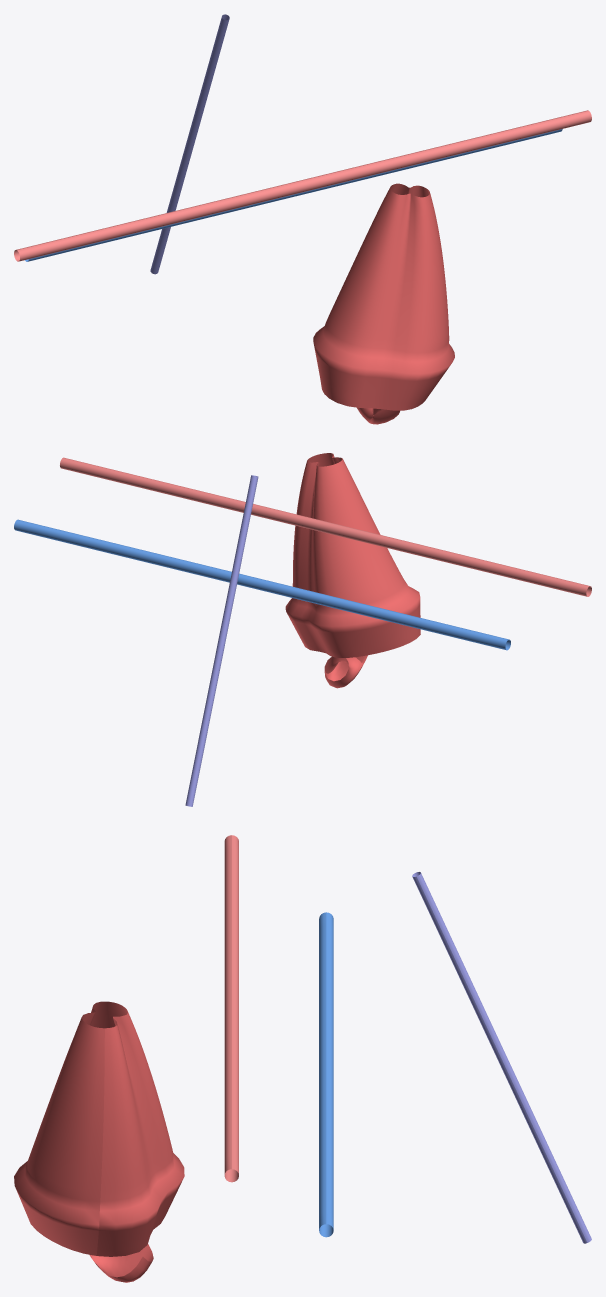
Rendered from cardiovascular.glb.
3 views of the same model, one above another, from view 1: azimuth 30°, elevation 25°; view 2: azimuth 150°, elevation 25°; view 3: azimuth 270°, elevation 25° (orthographic). The views are drawn at different scales.
Parts seen in each view (by area): view 1: Mesh_Avian_Cor, Mesh_Avian_AortaDexter, Mesh_Avian_RenalPortal, Mesh_Avian_VenaCava; view 2: Mesh_Avian_Cor, Mesh_Avian_AortaDexter, Mesh_Avian_VenaCava, Mesh_Avian_RenalPortal; view 3: Mesh_Avian_Cor, Mesh_Avian_AortaDexter, Mesh_Avian_VenaCava, Mesh_Avian_RenalPortal.
Part boxes in pixels (bbox=[...]): Mesh_Avian_Cor: bbox=[313, 183, 454, 424]; Mesh_Avian_AortaDexter: bbox=[14, 110, 591, 261]; Mesh_Avian_RenalPortal: bbox=[150, 14, 229, 274]; Mesh_Avian_VenaCava: bbox=[25, 129, 562, 261]; Mesh_Avian_Cor: bbox=[285, 453, 420, 688]; Mesh_Avian_AortaDexter: bbox=[60, 457, 591, 596]; Mesh_Avian_VenaCava: bbox=[14, 519, 510, 650]; Mesh_Avian_RenalPortal: bbox=[185, 475, 258, 806]; Mesh_Avian_Cor: bbox=[14, 1001, 184, 1282]; Mesh_Avian_AortaDexter: bbox=[224, 835, 238, 1182]; Mesh_Avian_VenaCava: bbox=[319, 912, 333, 1237]; Mesh_Avian_RenalPortal: bbox=[412, 872, 591, 1243].
Size of the model in its own units: 0.5955 by 0.3187 by 0.4278.
